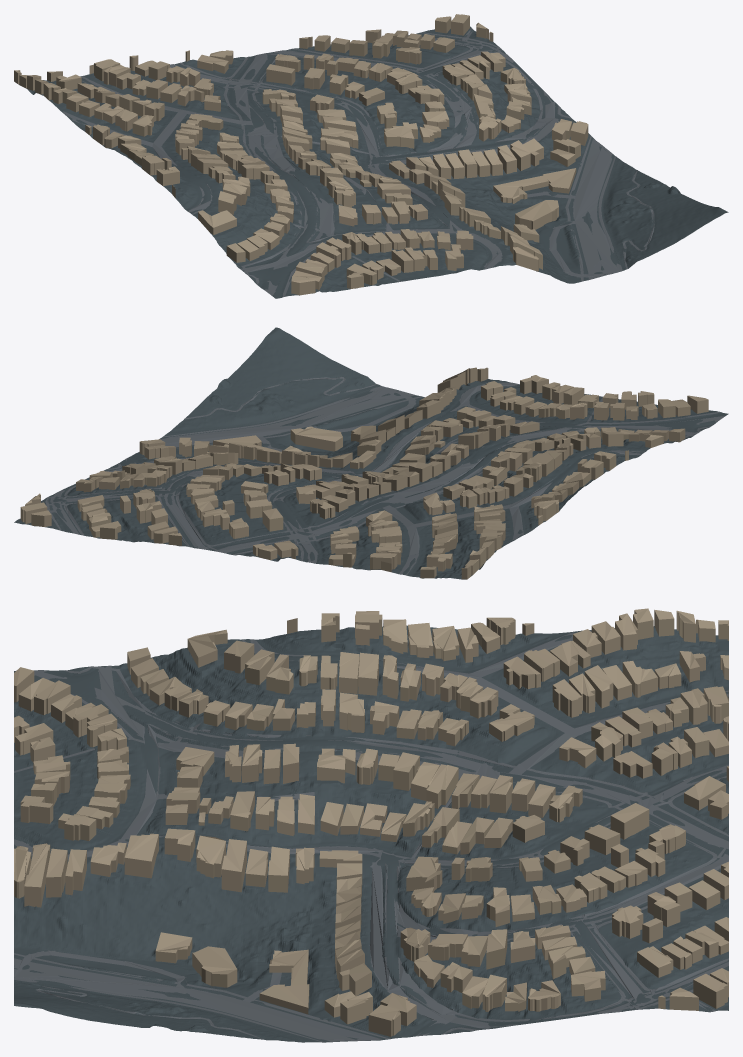
The model's file is epsg26910-1425-10880.lod0.glb.
3 renders of one model, top to bottom at view 1: azimuth 30°, elevation 25°; view 2: azimuth 150°, elevation 25°; view 3: azimuth 270°, elevation 25°, orthographic. The views are drawn at different scales.
Visible parts, largest first — view 1: epsg26910-1425-10880-lod0; view 2: epsg26910-1425-10880-lod0; view 3: epsg26910-1425-10880-lod0.
Part boxes in pixels (x1,y1,x2,y2): epsg26910-1425-10880-lod0: (14,14,728,298); epsg26910-1425-10880-lod0: (14,327,728,579); epsg26910-1425-10880-lod0: (14,608,728,1042).
Bounding box in the file's own units: 384 × 85.28 × 384.
